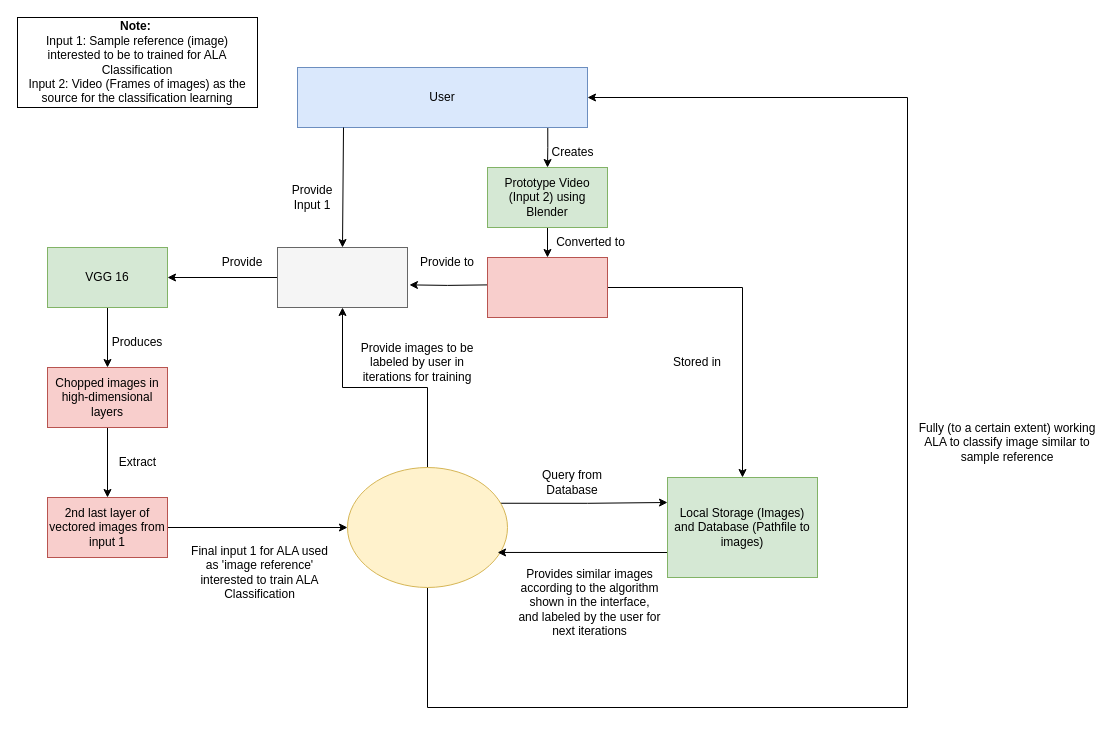
This 1115x733 diagram has some shape labels left out. The shapes that lost their labels are listed below. From the top down, each one's centre as x and y in pixels, then its label:
At (342,277): "Website".
At (547,287): "Vector of Images".
At (427,527): "Active Learning Algorithm for image classification (and training)".
